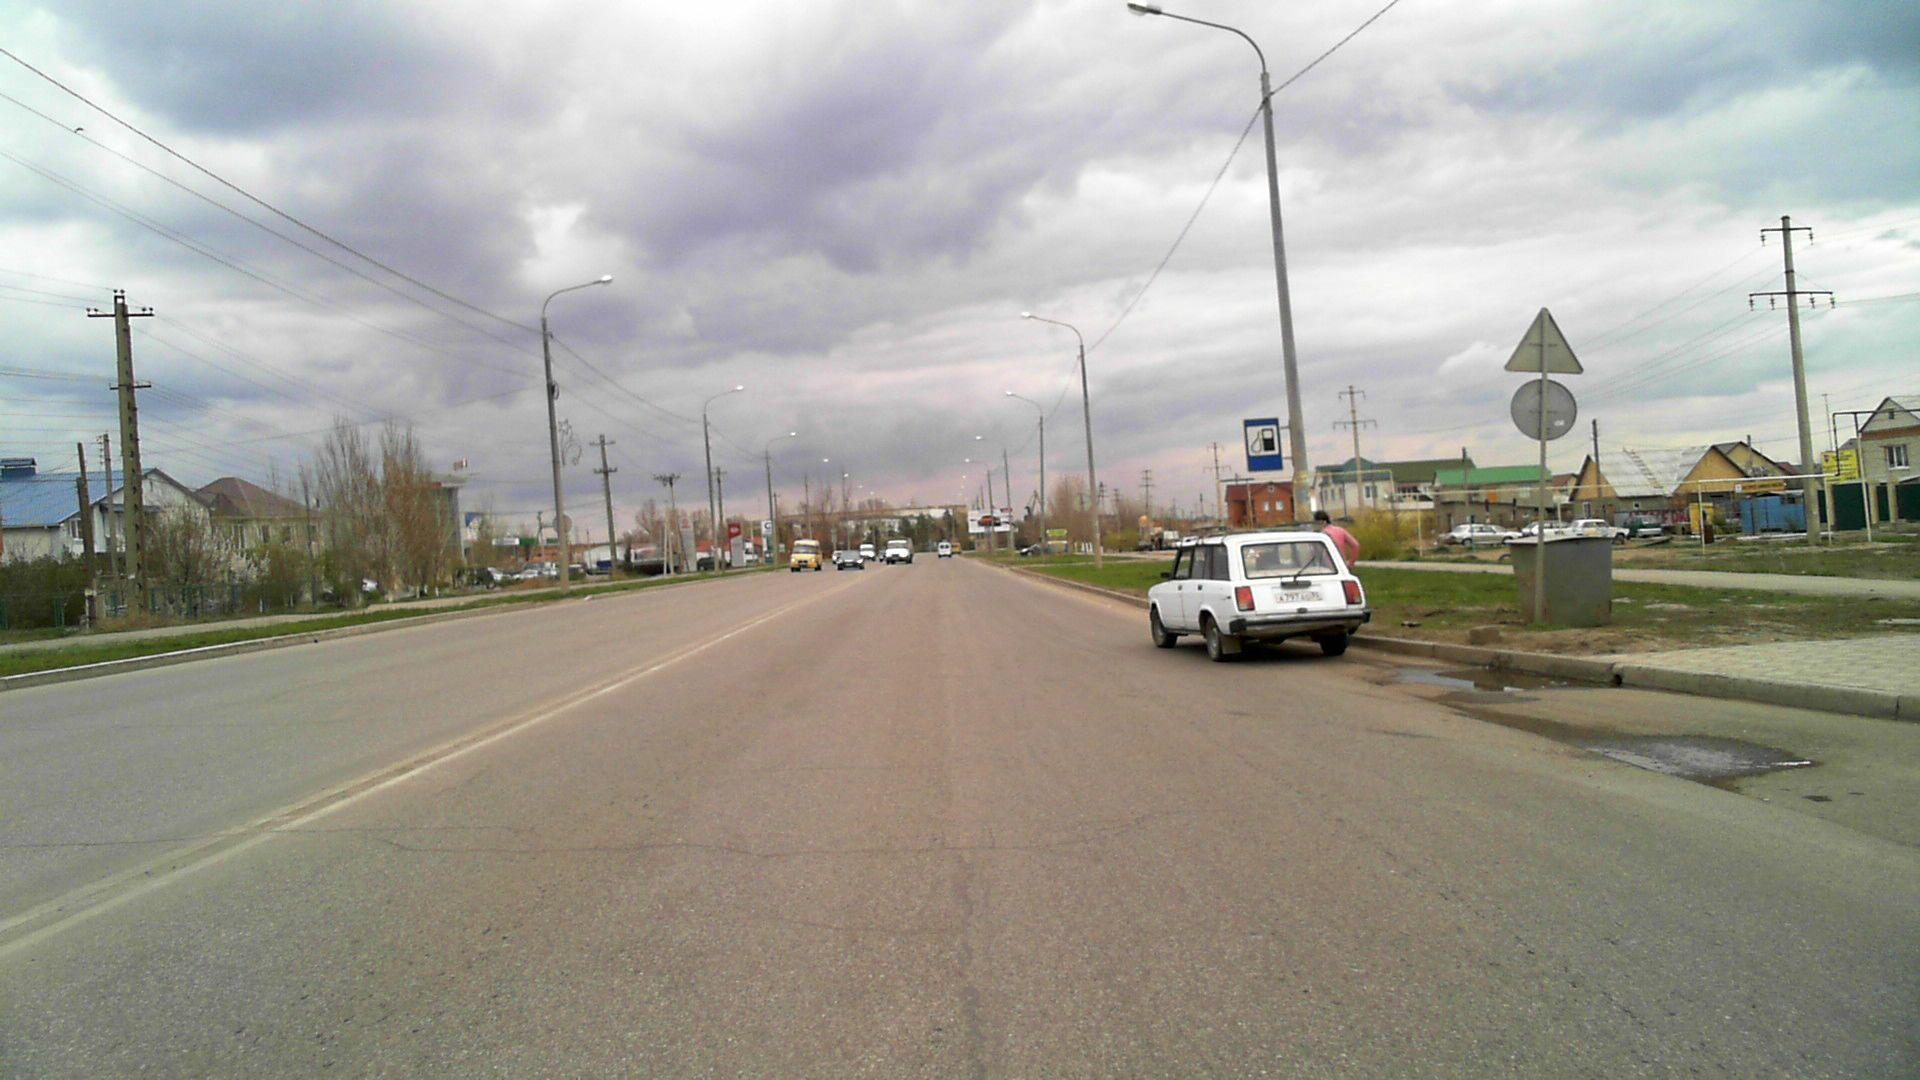7_3: (1244, 413, 1280, 469)
